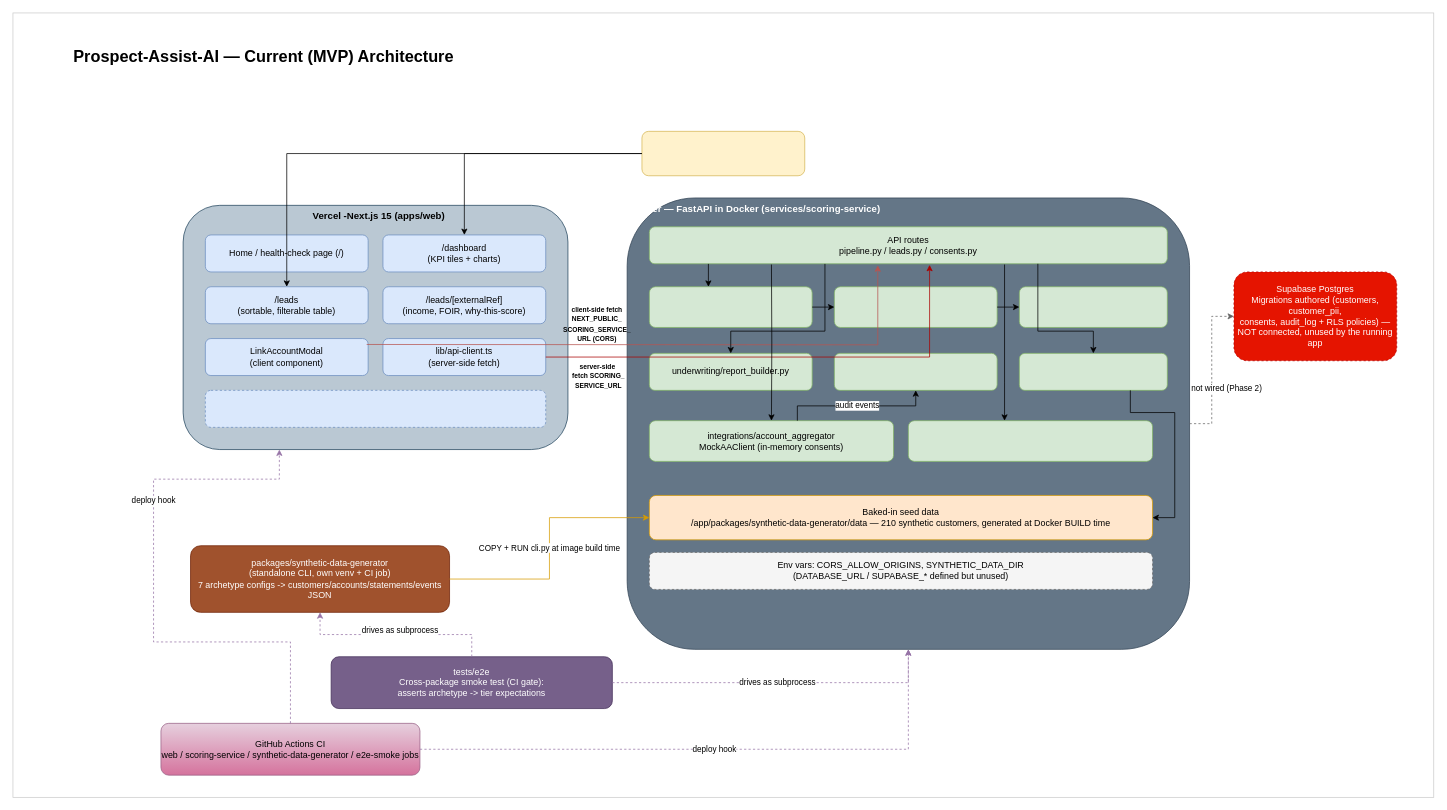
Image size: 1447x810. Some labels were removed from this diagram. Here are the shapes that lost their labels. From the top down, the centre of each, then its label:
At [723,153]: "Browser (Loan Officer / Demo Viewer)".
At [730,306]: "categorization (keyword engine + recurring detector)".
At [915,306]: "income_engine / capacity_engine / discipline_engine".
At [1093,306]: "scoring_engine (intent, composite, tiering, explain)".
At [915,371]: "core/audit.py structured JSON logs (stdout)".
At [1093,371]: "ingestion/ SyntheticFileIngestionSource".
At [375,408]: "Design tokens (globals.css) dataviz palette, light/dark".
At [1030,440]: "integrations/core_banking MockCoreBankingClient (fabricated KYC)".
